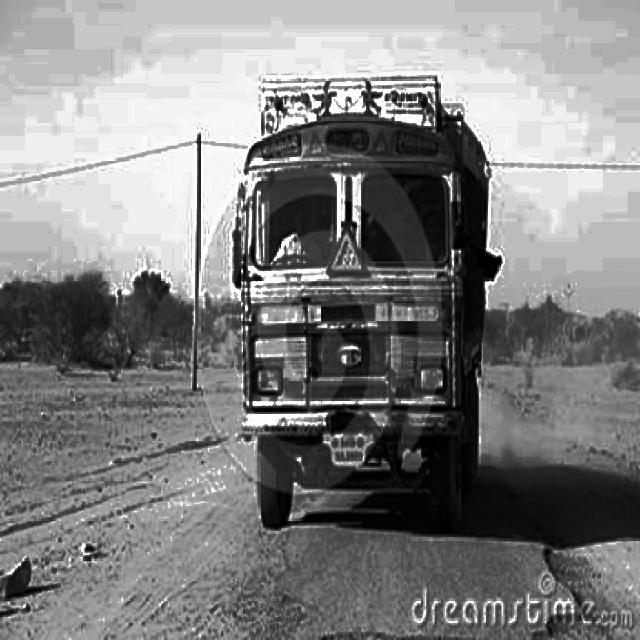HCV: (238, 71, 472, 500)
